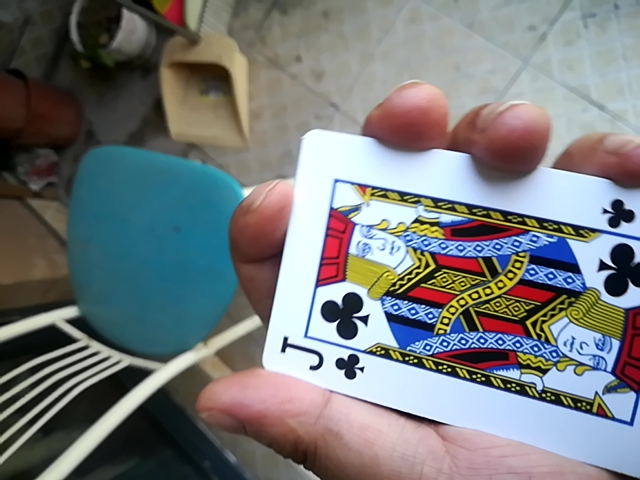mh j: (253, 135, 635, 471)
